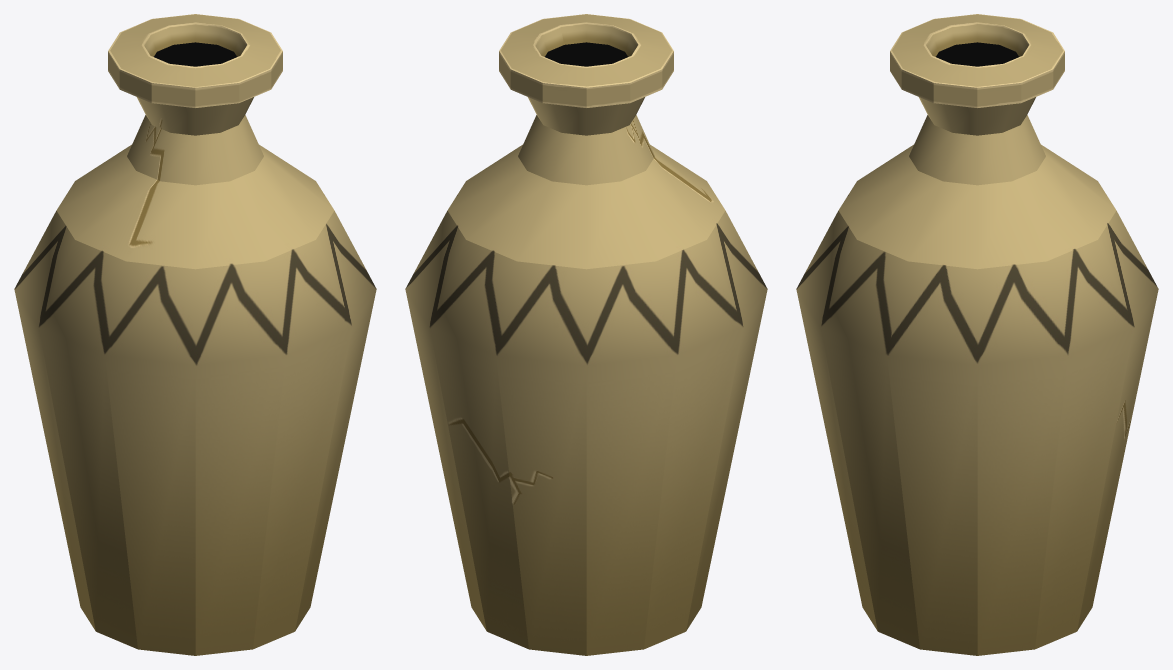
The model's file is Pot_01.fbx.
3 renders of one model, left to right at view 1: azimuth 30°, elevation 25°; view 2: azimuth 150°, elevation 25°; view 3: azimuth 270°, elevation 25°, orthographic.
Parts seen in each view (by area): view 1: pCylinder1; view 2: pCylinder1; view 3: pCylinder1.
Part boxes in pixels (left/top/right/bottom): pCylinder1: left=14, top=14, right=376, bottom=655; pCylinder1: left=405, top=14, right=767, bottom=655; pCylinder1: left=796, top=14, right=1158, bottom=655.
Size of the model in its own units: 100 by 171 by 100.
